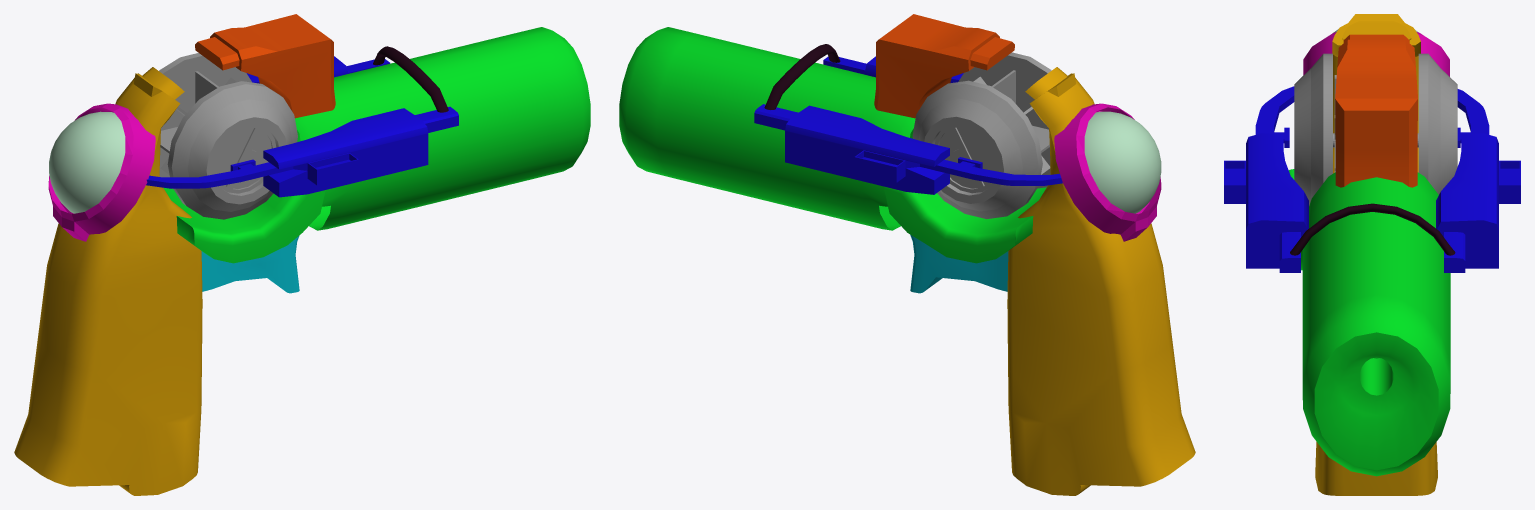
File: Gun Final.fbx
The picture shows the model from 3 angles, left to right: view 1: azimuth 30°, elevation 25°; view 2: azimuth 150°, elevation 25°; view 3: azimuth 270°, elevation 25°; orthographic projection. The views are drawn at different scales.
Parts seen in each view (by area): view 1: Gun parts, Spinnign Wheel; view 2: Gun parts, Spinnign Wheel; view 3: Gun parts, Spinnign Wheel.
Part boxes in pixels (bbox=[...]): Gun parts: bbox=[14, 14, 590, 495]; Spinnign Wheel: bbox=[159, 53, 297, 219]; Gun parts: bbox=[619, 14, 1195, 495]; Spinnign Wheel: bbox=[912, 52, 1051, 219]; Gun parts: bbox=[1224, 14, 1520, 495]; Spinnign Wheel: bbox=[1294, 53, 1457, 205].
Size of the model in its own units: 3.86 by 2.83 by 1.55.
